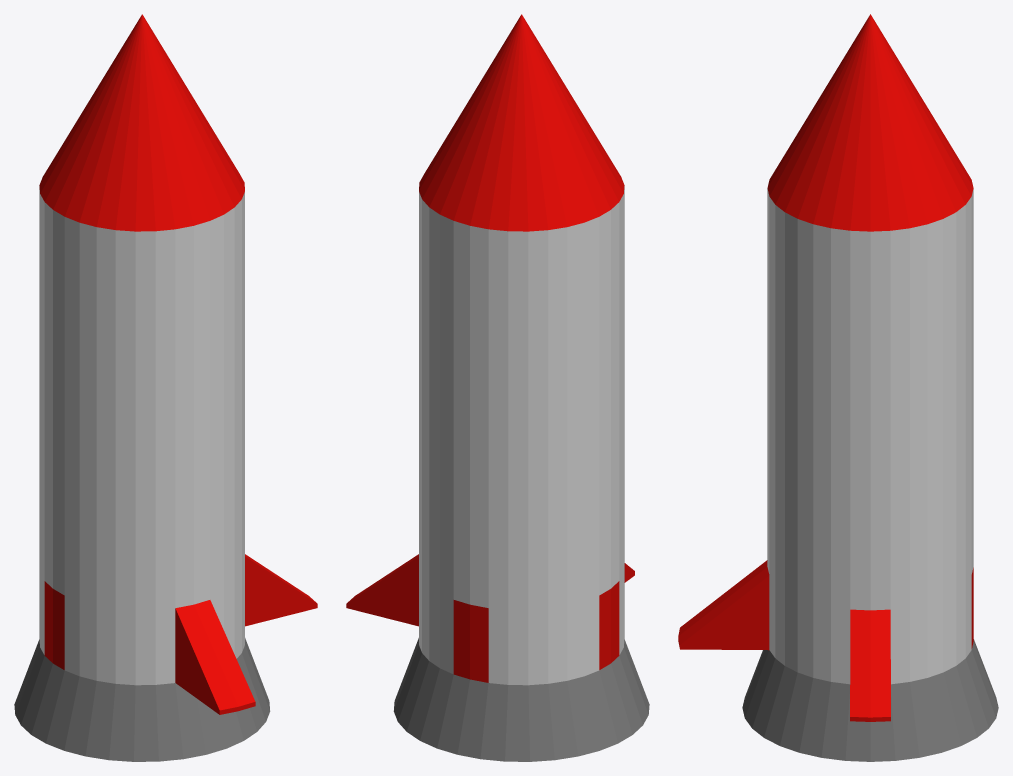
Rendered from rocket.glb.
The picture shows the model from 3 angles, left to right: view 1: azimuth 30°, elevation 25°; view 2: azimuth 150°, elevation 25°; view 3: azimuth 270°, elevation 25°; orthographic projection.
Visible parts, largest first — view 1: Cylinder; view 2: Cylinder; view 3: Cylinder.
Boxes of the visible parts, x1=… form: Cylinder: x1=14, y1=14, x2=317, y2=761; Cylinder: x1=346, y1=14, x2=649, y2=761; Cylinder: x1=678, y1=14, x2=998, y2=761.
Size of the model in its own units: 1.32 by 3.15 by 1.32.
